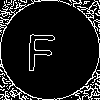F: (25, 25, 57, 72)
